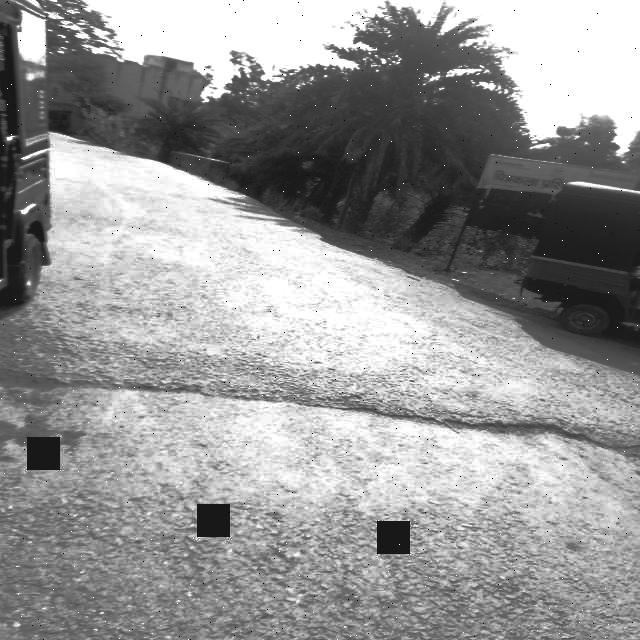Auto-Rickshaw: (522, 172, 640, 338)
